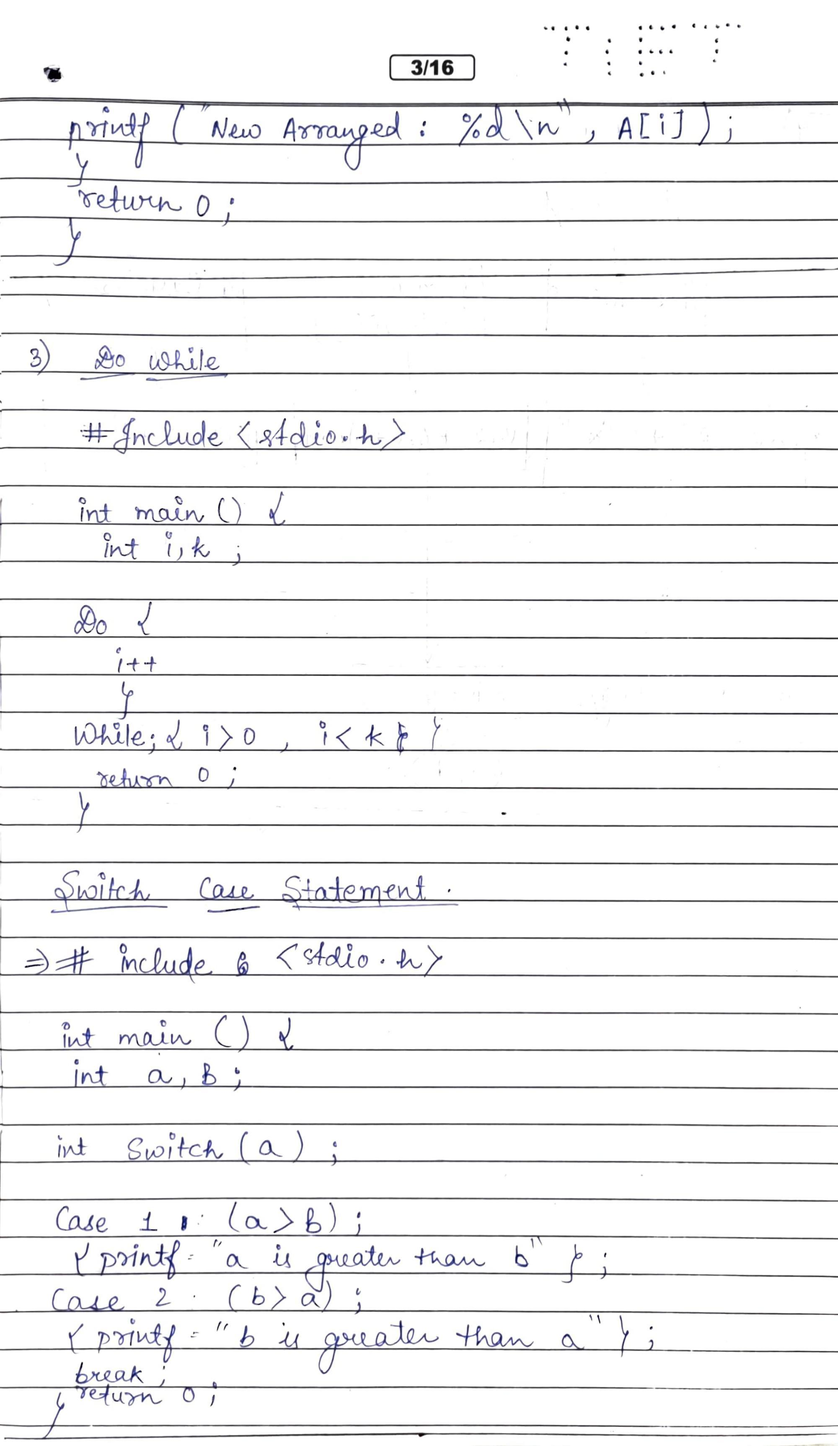cuttings: (227, 949, 256, 978), (393, 721, 410, 758), (179, 1213, 190, 1234)
